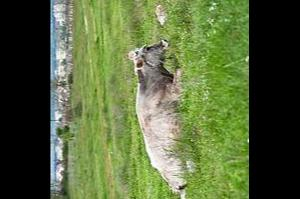cow: (125, 38, 192, 199)
